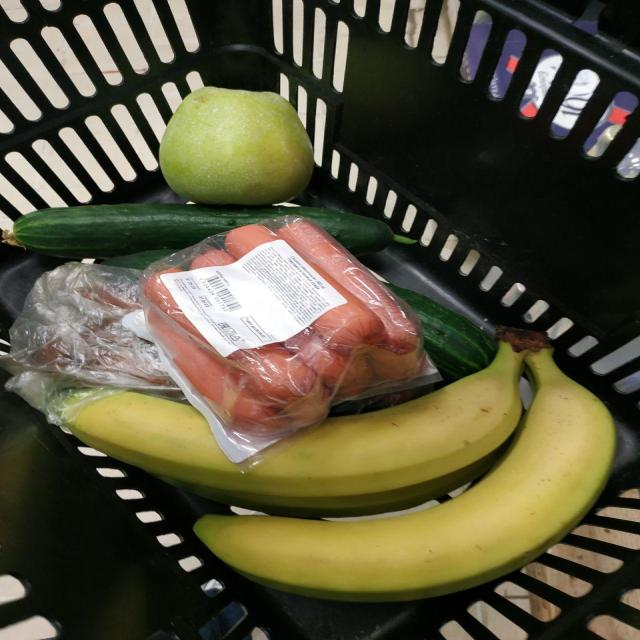Apple: (158, 86, 313, 205)
Banana: (195, 349, 615, 601), (67, 332, 528, 516)
Cucumber: (13, 204, 413, 258), (388, 284, 497, 378), (102, 249, 177, 270)
Sausages: (140, 216, 433, 461)
